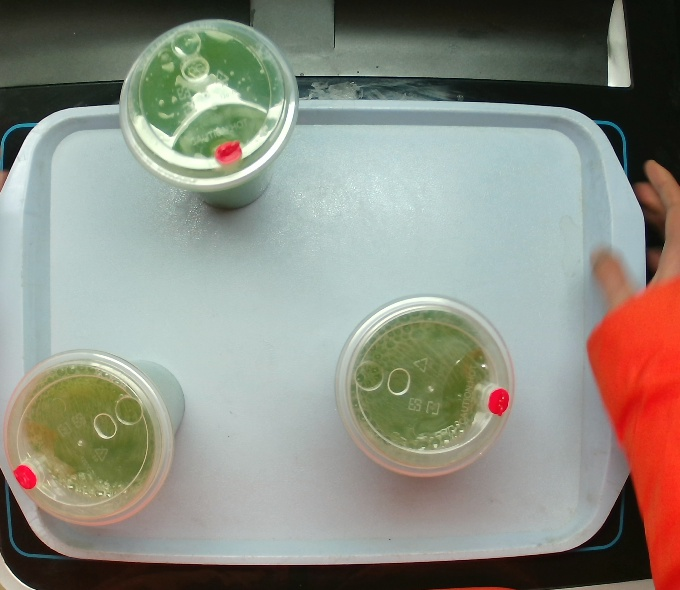wcq-HuangGuaZhi: (117, 17, 301, 212), (333, 290, 517, 480), (2, 347, 186, 529)
